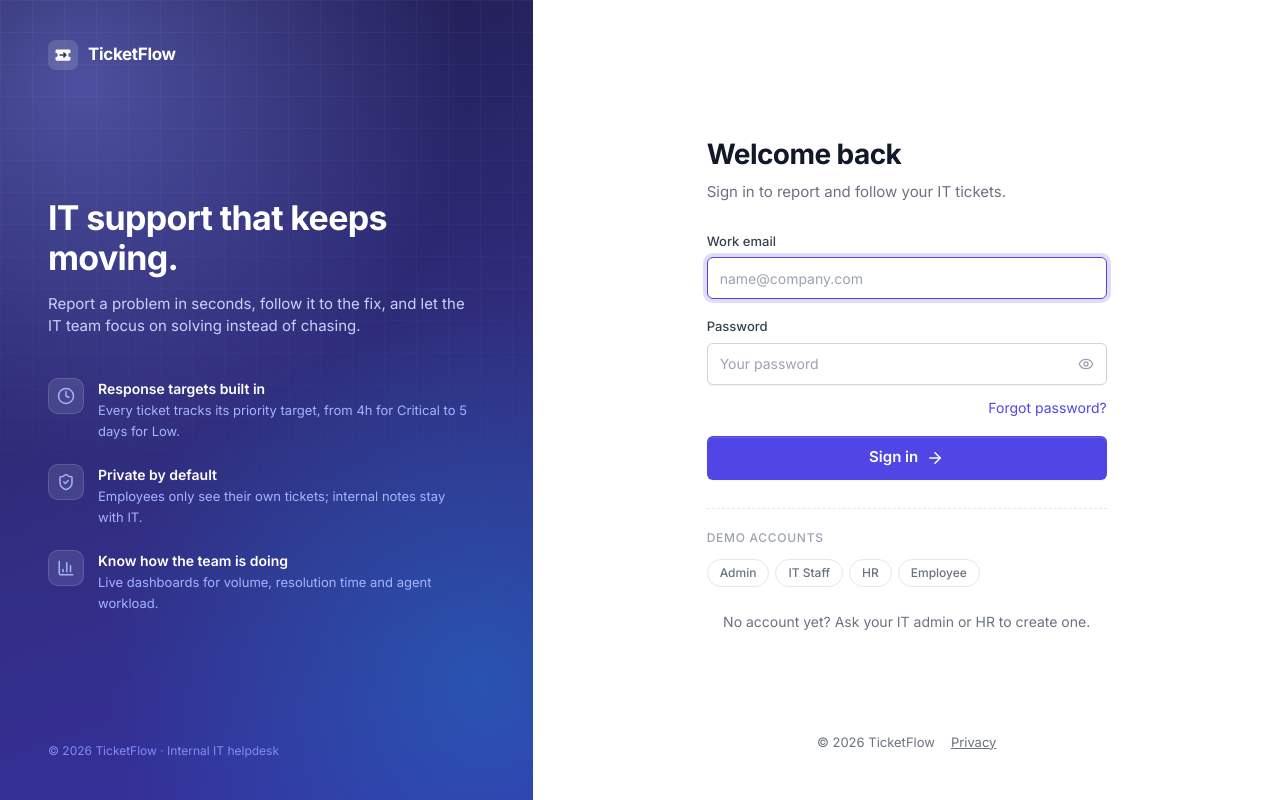
Test: Login › validation (before calling the API) › rejects an empty form
The width and height of the screenshot is (1280, 800).
Step 1. Click the button "Sign in" → (907, 458), box [707,436,1107,480]
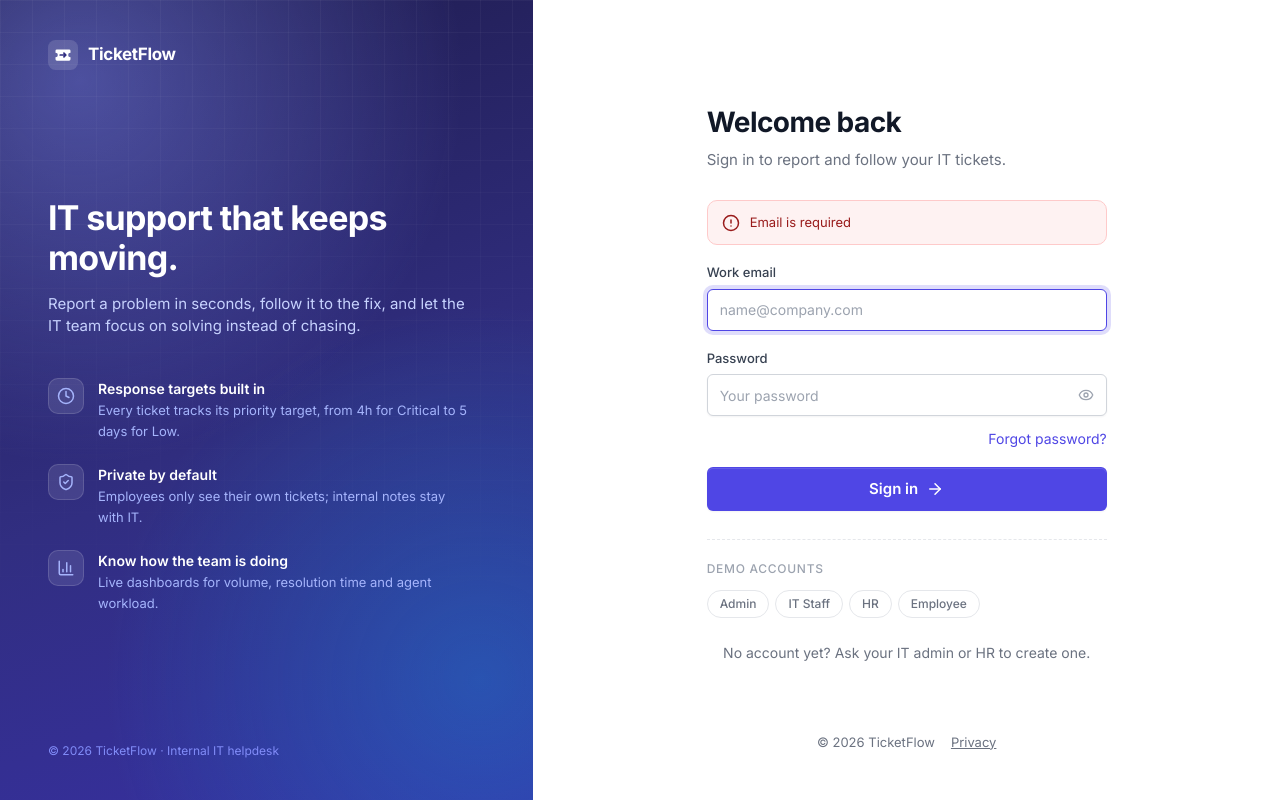
Check: the message reads "Email is required", box [750,214,851,230]
